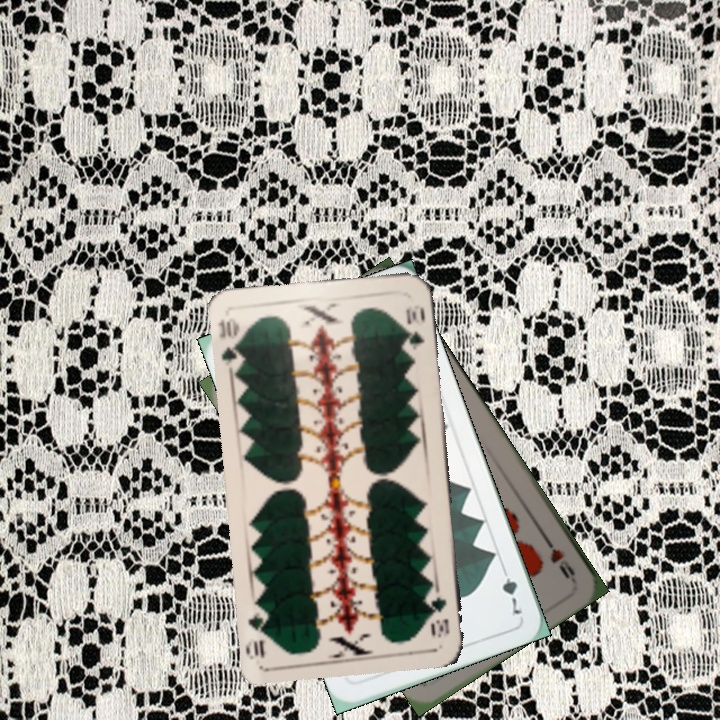G10: (215, 314, 246, 371), (427, 593, 452, 640)
G7: (497, 561, 525, 620)
H9: (538, 531, 578, 582)
